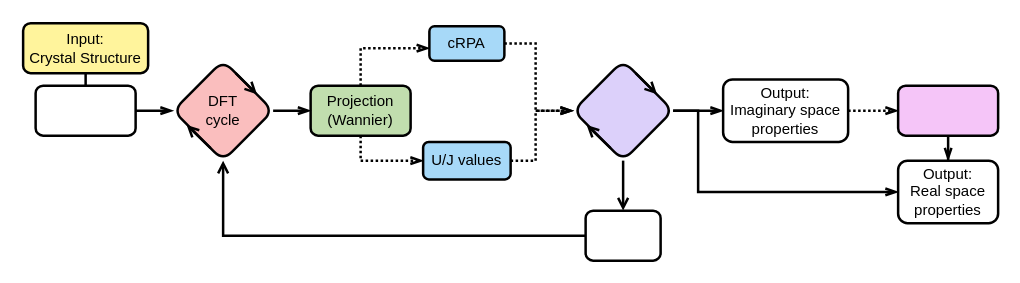
The diagram is 1020 pixels wide and 283 high, and some of its shapes have lost their labels. The centre of each missing label's shape, as x and y in pixels:
Analytical Continuation: (x=947, y=110)
DMFT cycle: (x=622, y=110)
Initial guess ρ(r): (x=85, y=110)
Updated ρ DMFT (r): (x=622, y=235)
